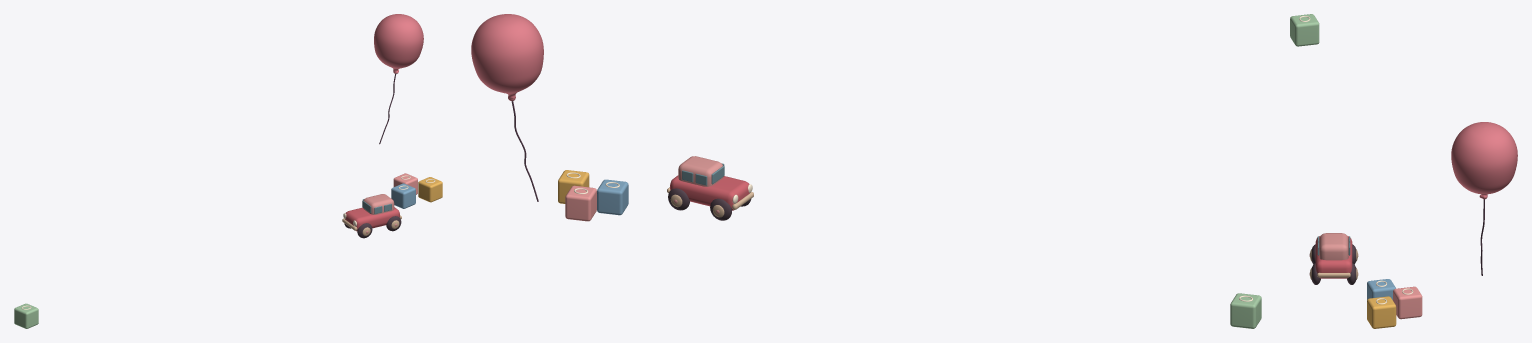
Rendered from room.glb.
3 renders of one model, left to right at view 1: azimuth 30°, elevation 25°; view 2: azimuth 150°, elevation 25°; view 3: azimuth 270°, elevation 25°, orthographic. The views are drawn at different scales.
Visible parts, largest first — view 1: balloon__Balloon membrane, car__Toy car chassis, block__Wooden toy block, blocks__Wooden toy block.001, blocks__Wooden toy block, car__Toy car cab; view 2: balloon__Balloon membrane, car__Toy car chassis, blocks__Wooden toy block, blocks__Wooden toy block.002, block__Wooden toy block, car__Toy car cab, blocks__Wooden toy block.001; view 3: balloon__Balloon membrane, block__Wooden toy block, blocks__Wooden toy block.001, blocks__Wooden toy block.002, car__Toy car cab, car__Toy car chassis, blocks__Wooden toy block.
Part boxes in pixels (x1=…): balloon__Balloon membrane: x1=374, y1=14, x2=423, y2=71; car__Toy car chassis: x1=345, y1=207, x2=399, y2=231; block__Wooden toy block: x1=14, y1=303, x2=38, y2=328; blocks__Wooden toy block.001: x1=418, y1=177, x2=442, y2=202; blocks__Wooden toy block: x1=391, y1=183, x2=415, y2=208; car__Toy car cab: x1=363, y1=194, x2=394, y2=214; balloon__Balloon membrane: x1=471, y1=14, x2=543, y2=98; car__Toy car chassis: x1=670, y1=175, x2=749, y2=210; blocks__Wooden toy block: x1=597, y1=179, x2=628, y2=215; blocks__Wooden toy block.002: x1=565, y1=185, x2=596, y2=221; block__Wooden toy block: x1=1230, y1=293, x2=1261, y2=328; car__Toy car cab: x1=678, y1=156, x2=723, y2=186; blocks__Wooden toy block.001: x1=558, y1=170, x2=589, y2=203; balloon__Balloon membrane: x1=1451, y1=122, x2=1517, y2=195; block__Wooden toy block: x1=1290, y1=14, x2=1319, y2=46; blocks__Wooden toy block.001: x1=1367, y1=296, x2=1396, y2=328; blocks__Wooden toy block.002: x1=1393, y1=286, x2=1422, y2=319; car__Toy car cab: x1=1319, y1=233, x2=1348, y2=260; car__Toy car chassis: x1=1315, y1=236, x2=1352, y2=278; blocks__Wooden toy block: x1=1367, y1=279, x2=1395, y2=299.
Size of the model in its own units: 9.46 by 2.91 by 2.96.
